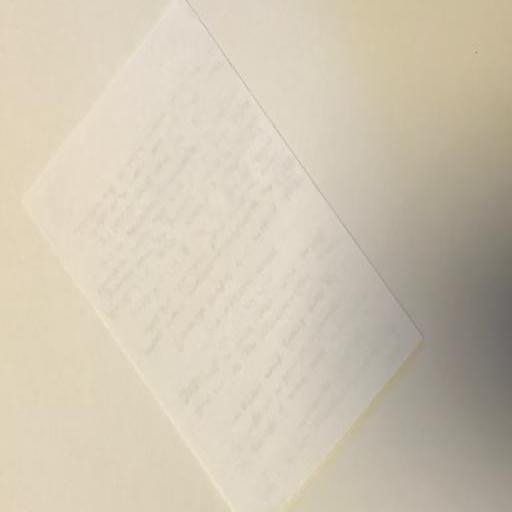paper: (20, 0, 422, 512)
